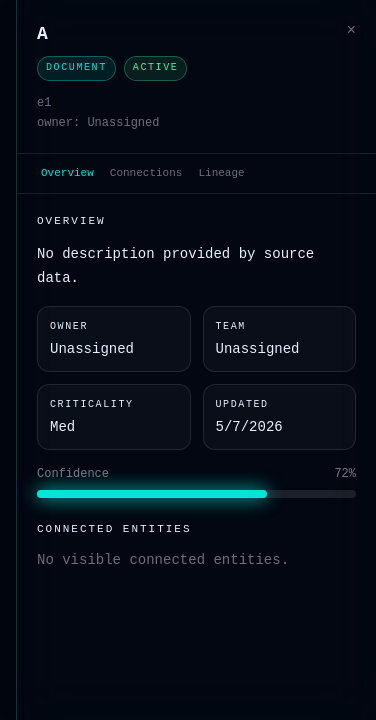
it: inspector metadata › inspector_connections_tab_renders_real_edges
Click the button "Connections" at (146, 173), box [102,154,190,193]
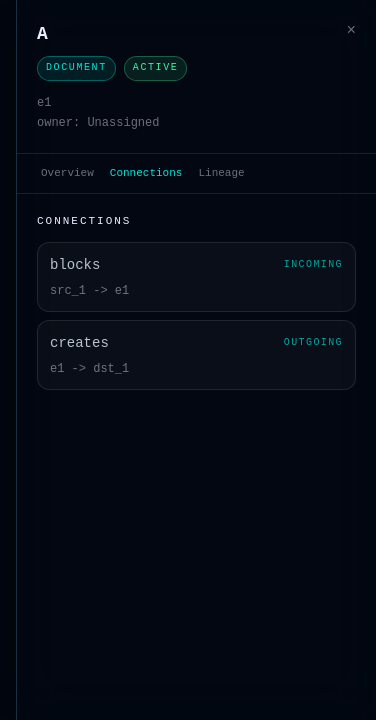
Check: the text "blocks" is shown, box [50,255,100,275]
Check: the text "creates" is shown, box [50,333,109,353]
